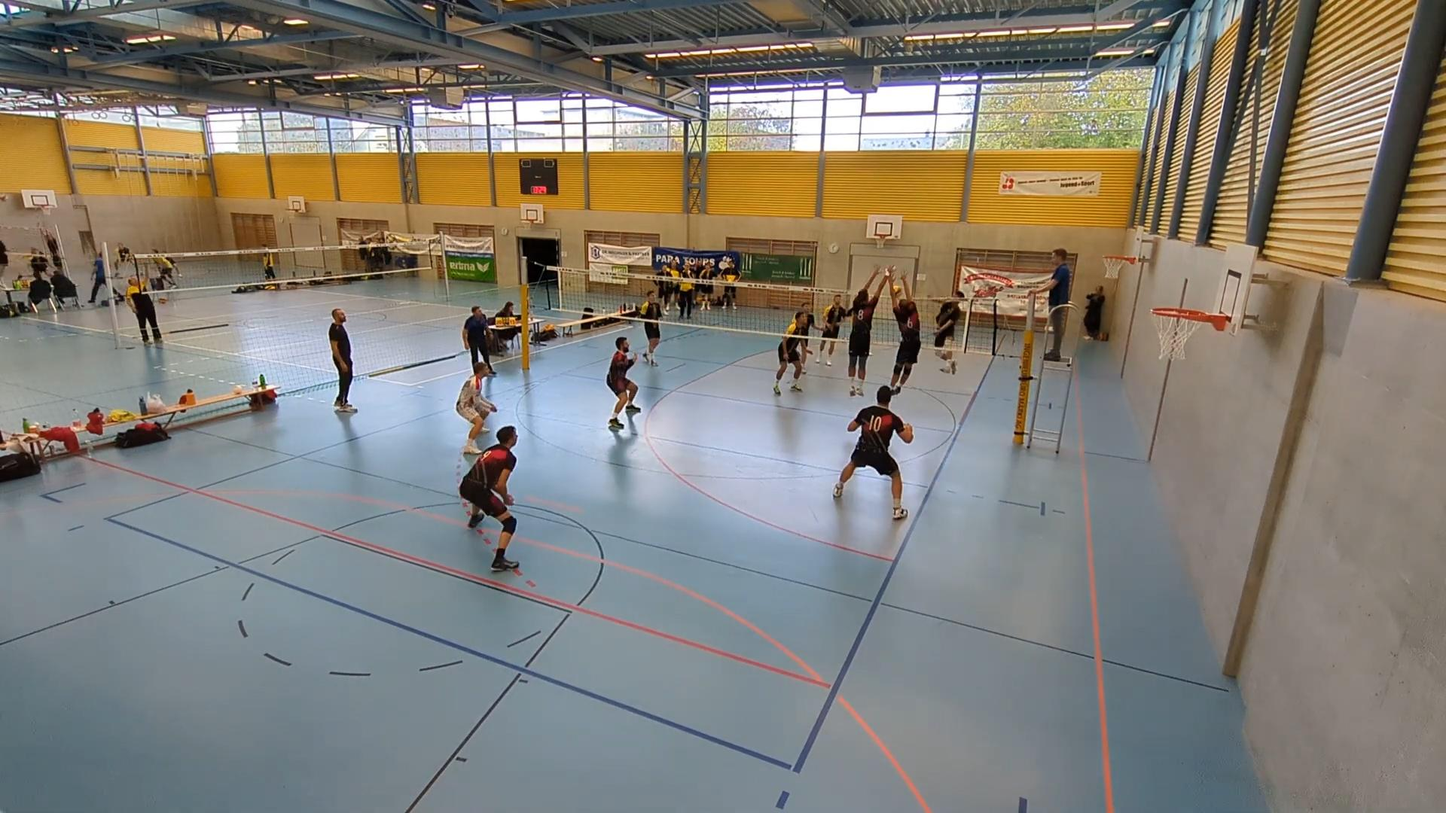Attack: (921, 279, 970, 381)
Block: (881, 266, 921, 398), (851, 261, 886, 394)
Player: (833, 386, 913, 519), (459, 425, 517, 571), (456, 361, 496, 452), (606, 336, 640, 429), (773, 310, 807, 394), (815, 294, 847, 365), (639, 291, 660, 364), (799, 303, 816, 374)
ball: (885, 282, 903, 298)
